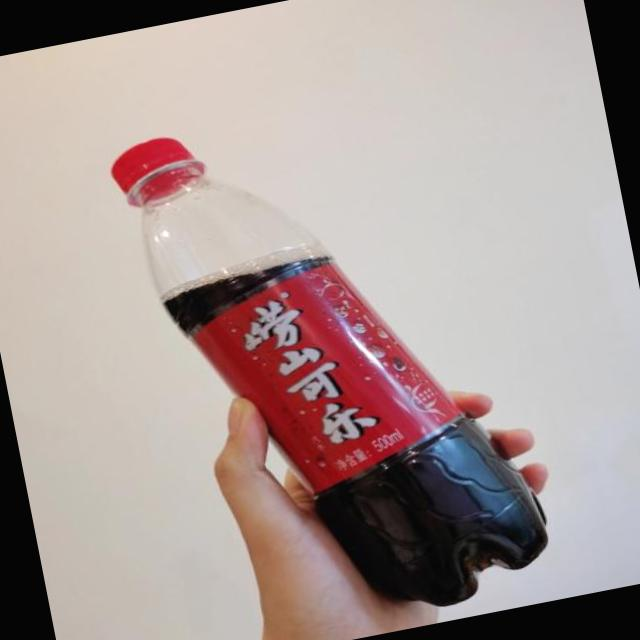bottle: (98, 76, 563, 640)
